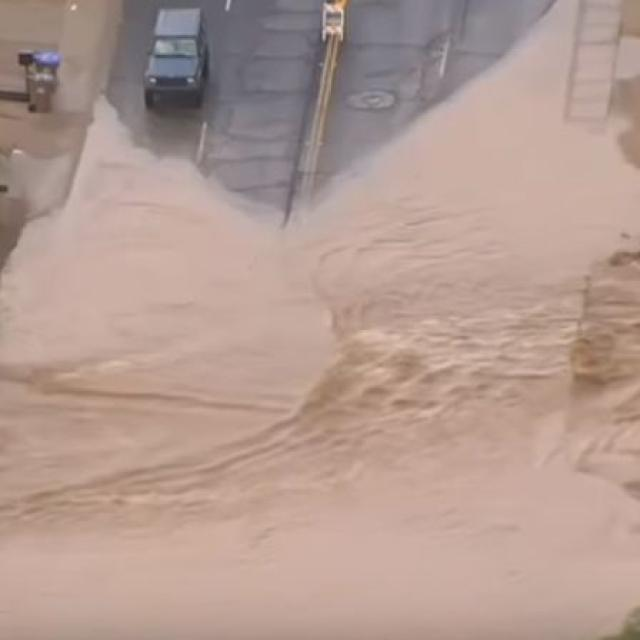flooded_areas: (0, 79, 634, 638)
